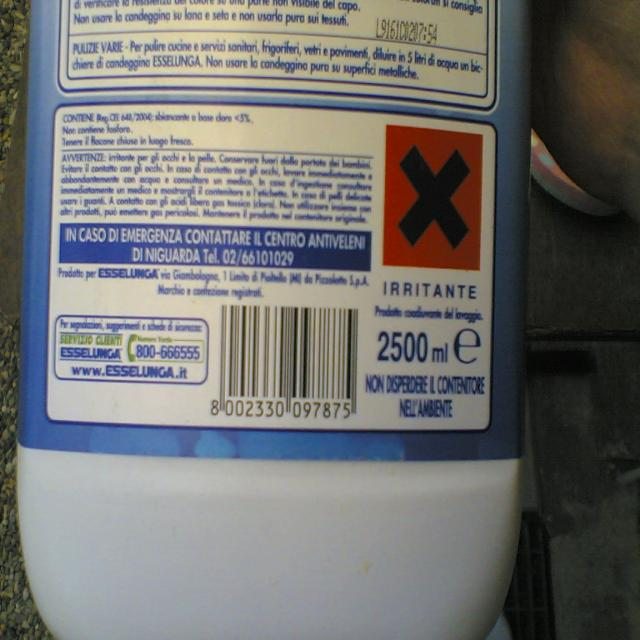barcode: (211, 305, 358, 420)
